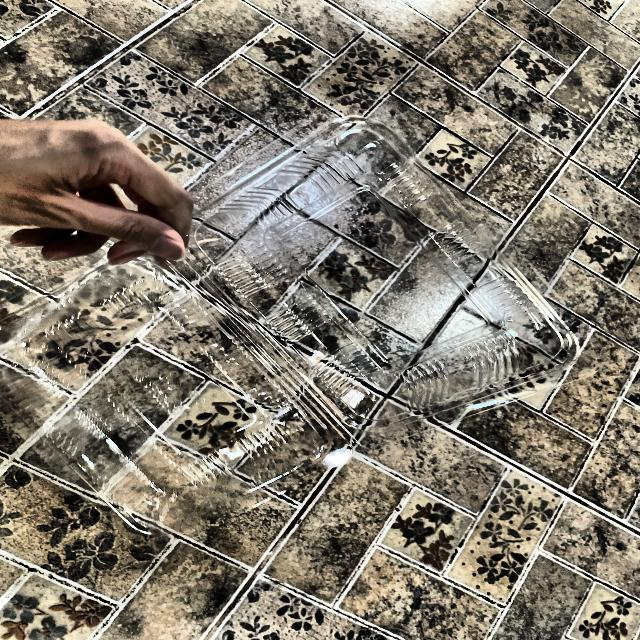plastic container: (26, 94, 579, 537)
